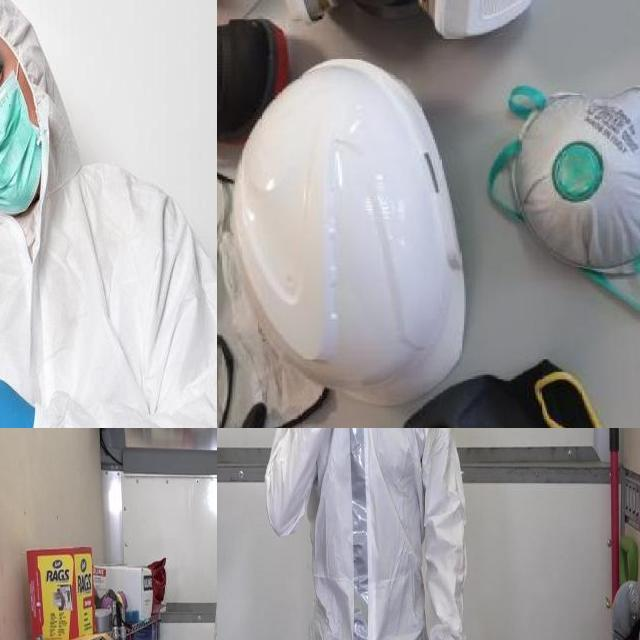BOOTS: (217, 0, 291, 145)
GLOVE: (360, 359, 619, 428)
HELMET: (227, 64, 477, 403)
MASK: (0, 74, 46, 215)
